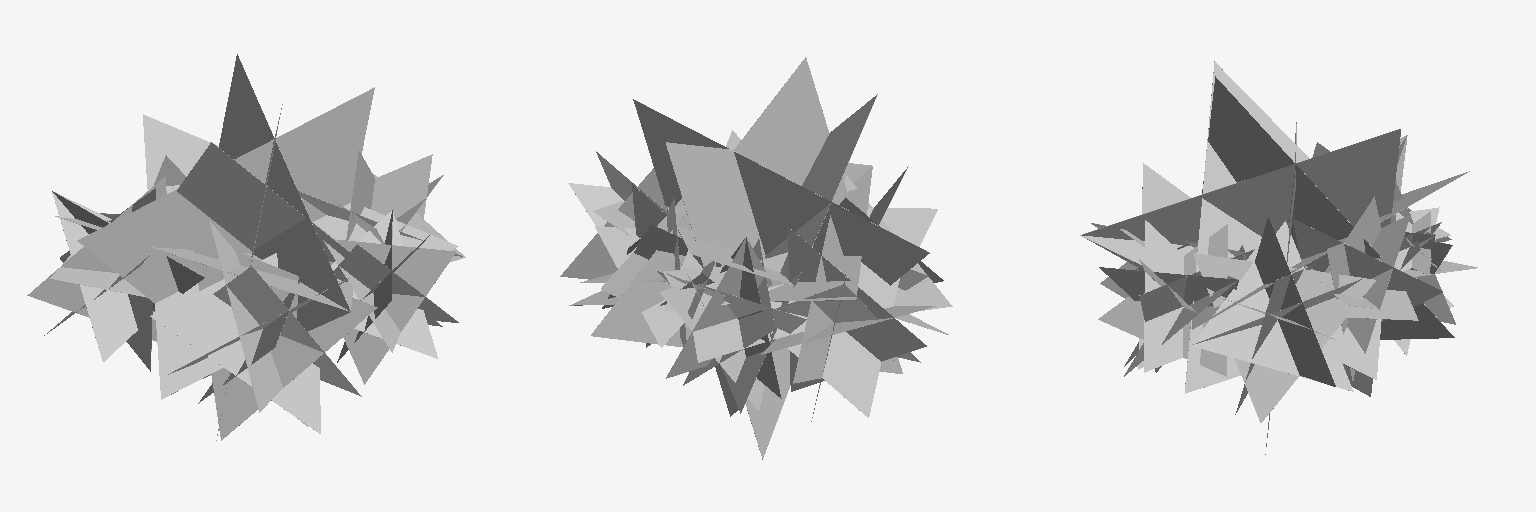
Rendered from RhodeTree3-Leaves.obj.
3 renders of one model, left to right at view 1: azimuth 30°, elevation 25°; view 2: azimuth 150°, elevation 25°; view 3: azimuth 270°, elevation 25°, orthographic.
Parts seen in each view (by area): view 1: Plane.009_Circle.000; view 2: Plane.009_Circle.000; view 3: Plane.009_Circle.000.
Part boxes in pixels (x1,y1,x2,y2): Plane.009_Circle.000: (27, 54, 465, 440); Plane.009_Circle.000: (560, 57, 952, 459); Plane.009_Circle.000: (1080, 61, 1477, 454).
Size of the model in its own units: 34.48 by 30.03 by 30.76.